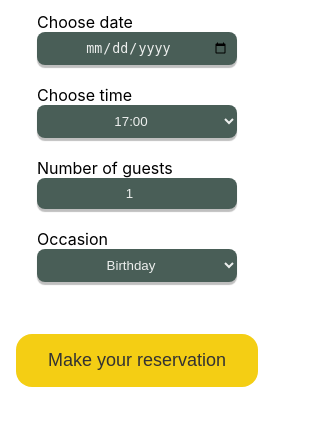
Test: Date input › Shows validation error when date is empty
Click the button with aria-label "submit reservation". click: (137, 361)
box: [16, 334, 258, 387]
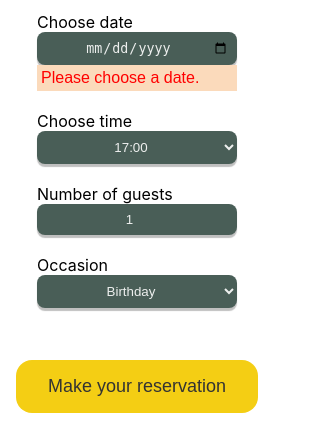
Now the text "Please choose a date." is shown, box [37, 65, 237, 91]
